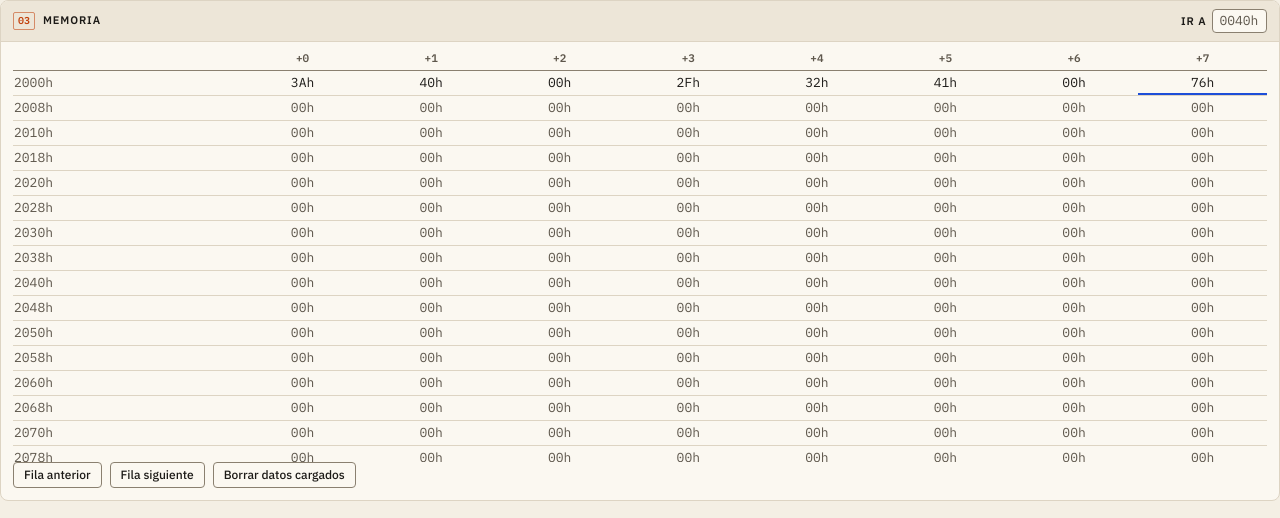
Scenario: Memory › celda cambiada tras el paso STA del ejemplo: 0041h = C5h
Step 1. Type "0000h" into the field labelled "Ir a" → (1240, 21), box [1212,9,1267,33]
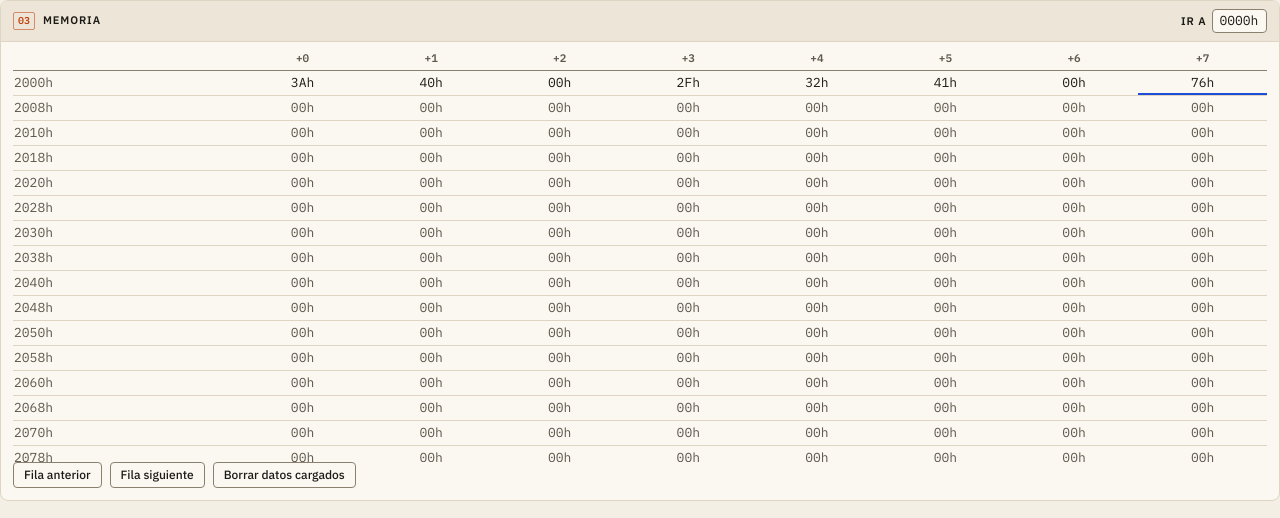
Step 2. Press Enter in the field labelled "Ir a", box [1212,9,1267,33]
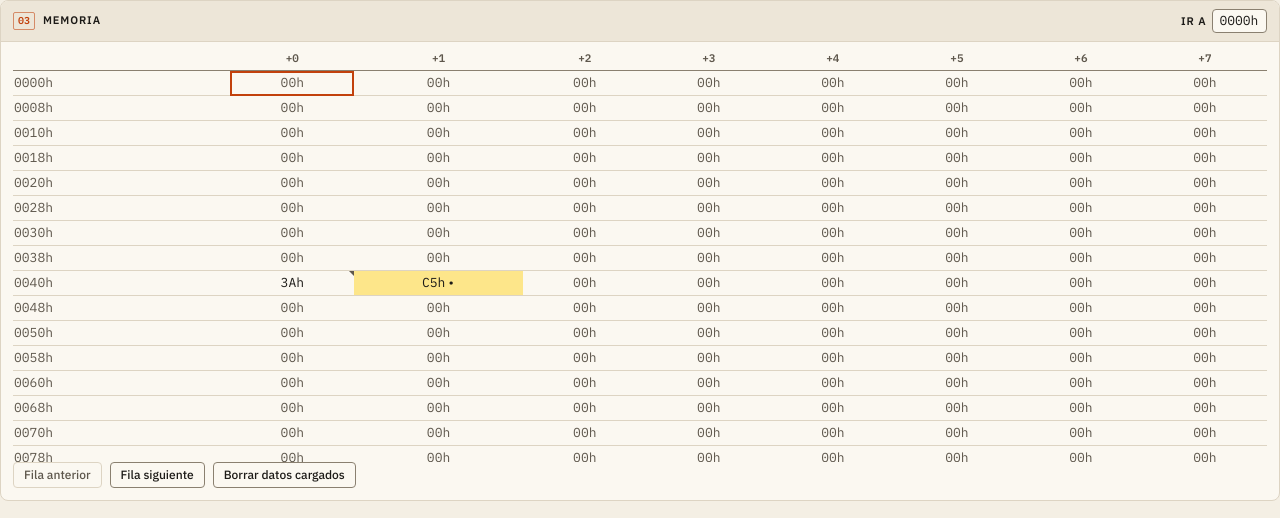
Expected: the cell named "0041h: C5h (cambió desde 00h)" shows "•", [447,274,455,291]
